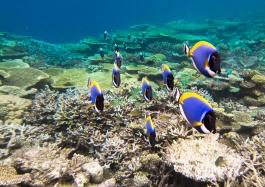Acanthuridae -Surgeonfishes-: (173, 88, 218, 137), (184, 39, 222, 80), (86, 78, 106, 115), (144, 114, 158, 149)
